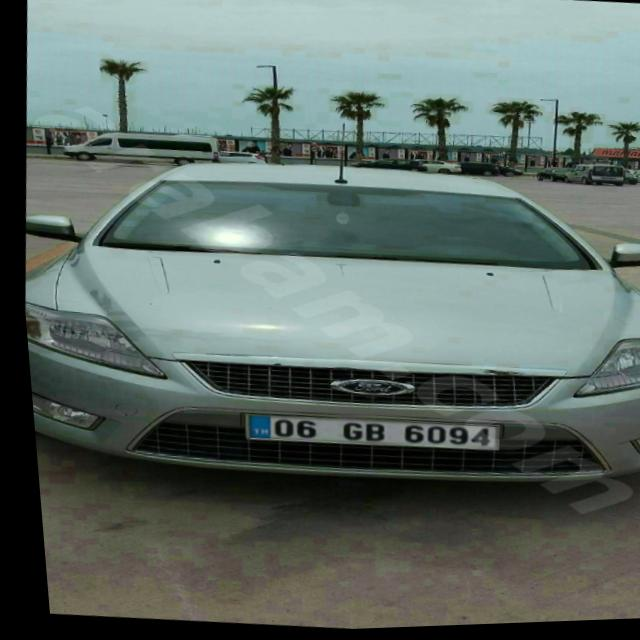license_plate: (236, 409, 490, 461)
